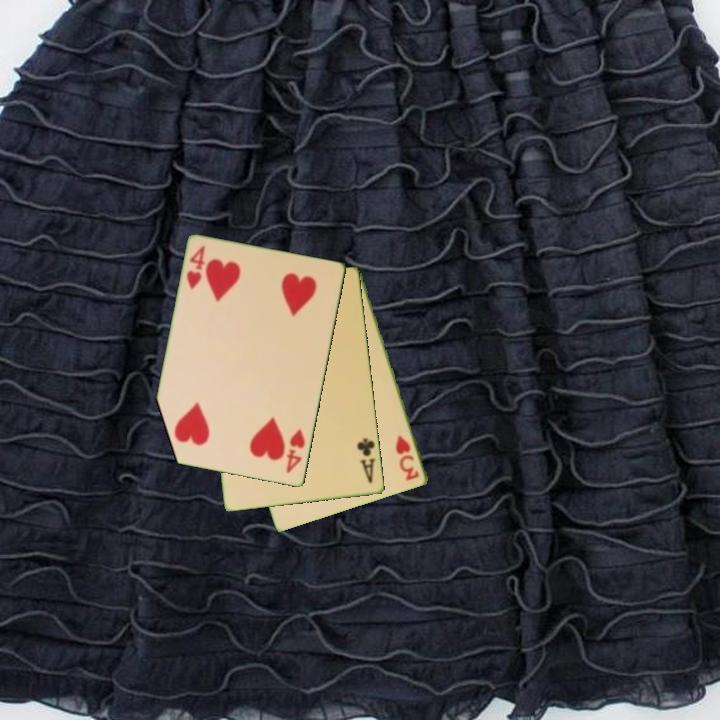3h: (392, 432, 423, 484)
4h: (283, 426, 308, 477), (183, 242, 208, 293)
Ac: (354, 435, 379, 486)
